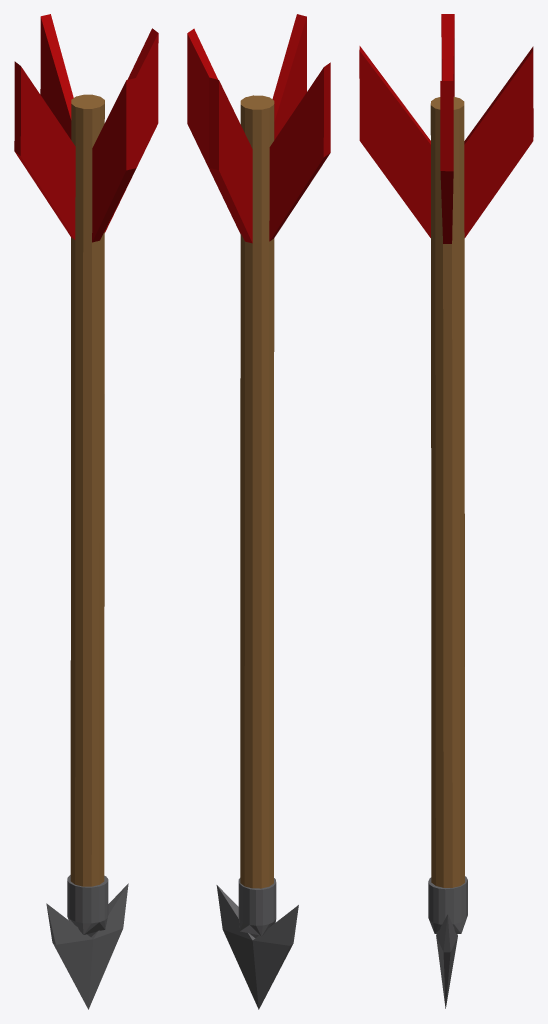
File: Arrow.fbx
3 views of the same model, side by side, from view 1: azimuth 30°, elevation 25°; view 2: azimuth 150°, elevation 25°; view 3: azimuth 270°, elevation 25° (orthographic).
Parts seen in each view (by area): view 1: Cylinder, arrowhead; view 2: Cylinder, arrowhead; view 3: Cylinder, arrowhead.
Part boxes in pixels (left/top/right/bottom): Cylinder: left=14, top=14, right=158, bottom=886; arrowhead: left=46, top=875, right=128, bottom=1009; Cylinder: left=187, top=14, right=330, bottom=888; arrowhead: left=216, top=878, right=298, bottom=1009; Cylinder: left=359, top=14, right=533, bottom=887; arrowhead: left=428, top=876, right=467, bottom=1008.
Size of the model in its own units: 4.57 by 30.59 by 5.02.
